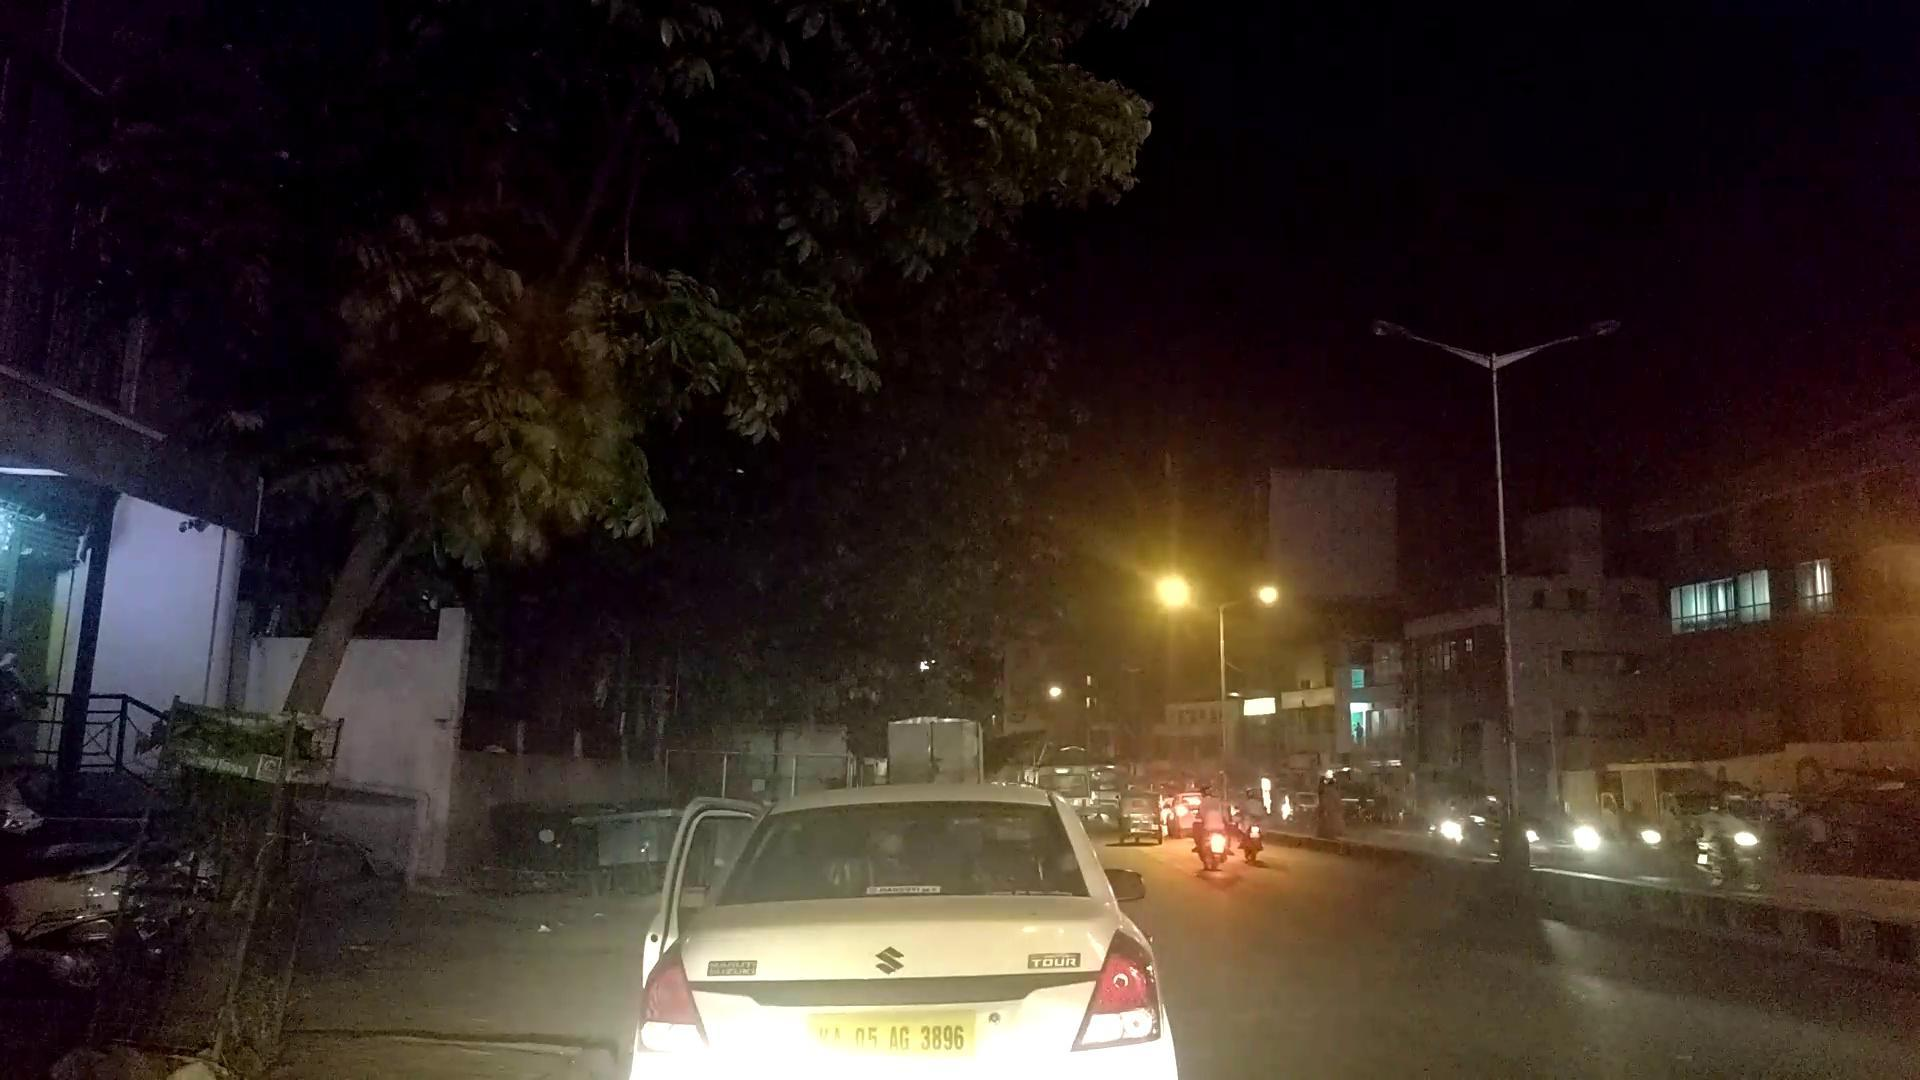on: (1080, 392, 1559, 907)
